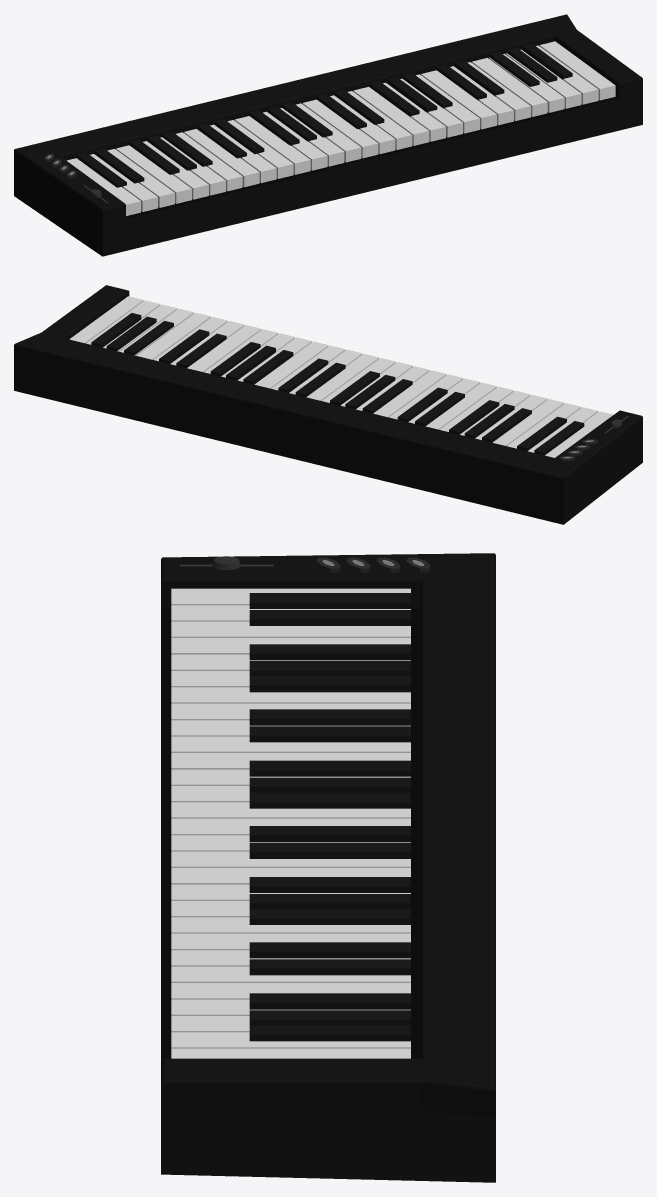
The model's file is Midi Keyboard05.fbx.
3 views of the same model, one above another, from view 1: azimuth 30°, elevation 25°; view 2: azimuth 150°, elevation 25°; view 3: azimuth 270°, elevation 25° (orthographic). The views are drawn at different scales.
Parts seen in each view (by area): view 1: 49keysmidi.006; view 2: 49keysmidi.006; view 3: 49keysmidi.006.
Boxes of the visible parts, bbox=[...] form: 49keysmidi.006: bbox=[14, 14, 642, 256]; 49keysmidi.006: bbox=[14, 285, 642, 524]; 49keysmidi.006: bbox=[161, 553, 495, 1182].
Bounding box in the file's own units: 75.86 × 6.61 × 20.
